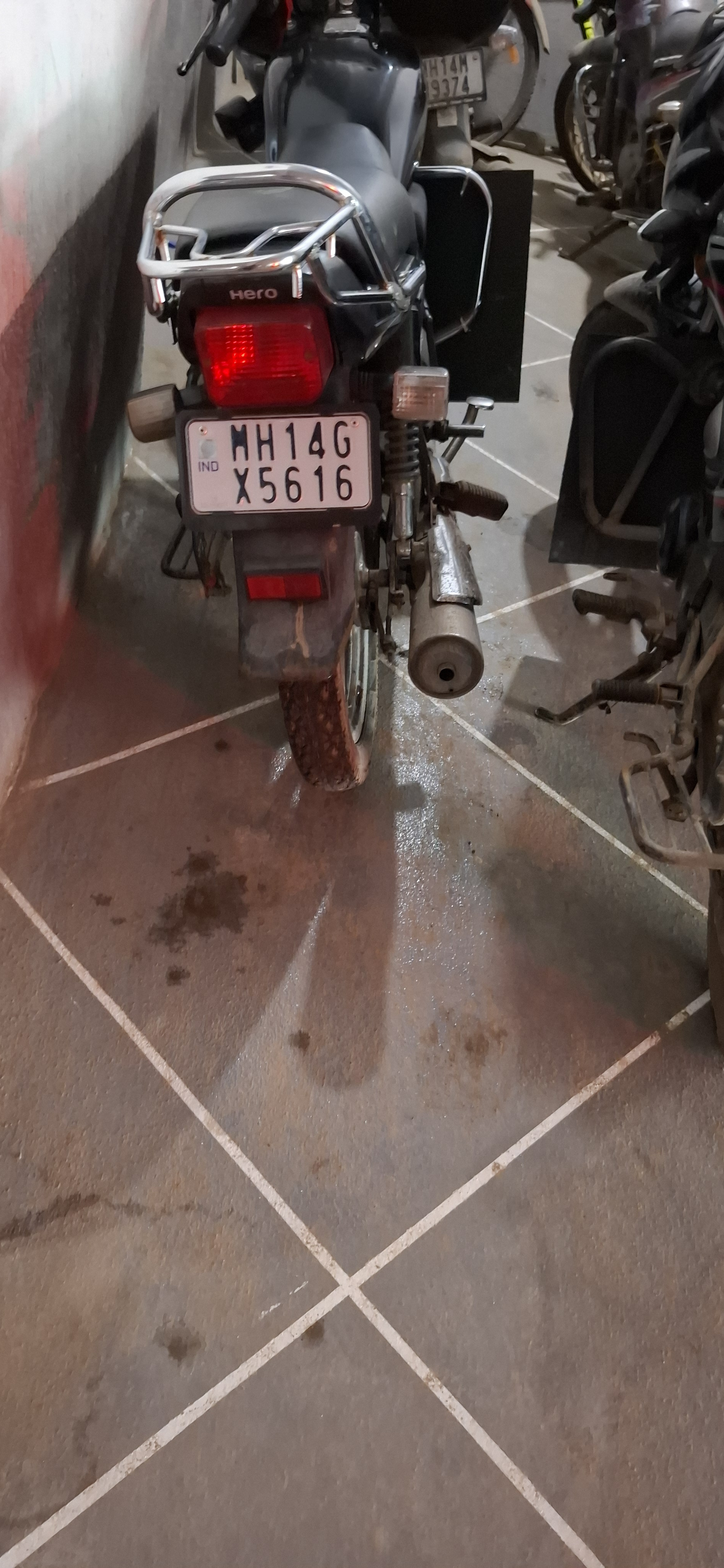license_plate: (117, 1, 543, 790), (551, 0, 704, 206), (587, 1, 723, 215), (551, 1, 657, 203)
